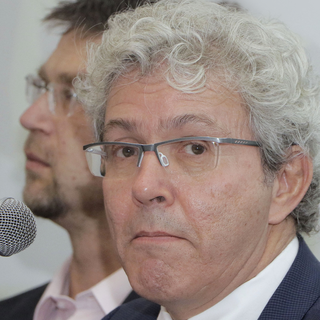eye: (171, 132, 217, 167), (103, 138, 146, 165)
